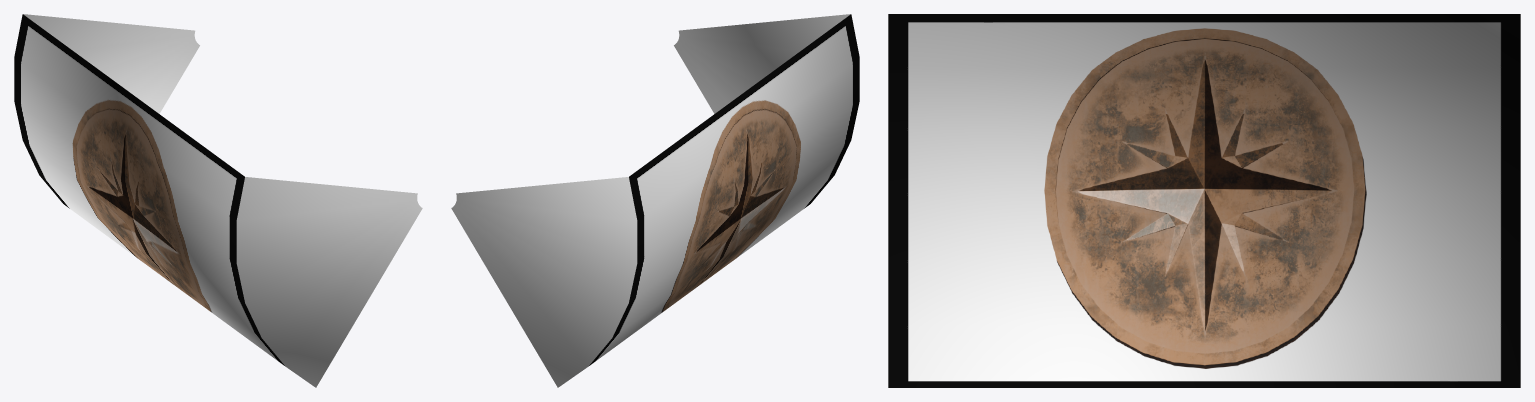
Rendered from roulette03.fbx.
The picture shows the model from 3 angles, left to right: view 1: azimuth 30°, elevation 25°; view 2: azimuth 150°, elevation 25°; view 3: azimuth 270°, elevation 25°; orthographic projection. The views are drawn at different scales.
Parts seen in each view (by area): view 1: roulette03; view 2: roulette03; view 3: roulette03.
Part boxes in pixels (x1,y1,x2,y2): roulette03: (14,14,422,387); roulette03: (451,14,859,387); roulette03: (888,14,1520,387).
Size of the model in its own units: 64.76 by 75.94 by 134.
